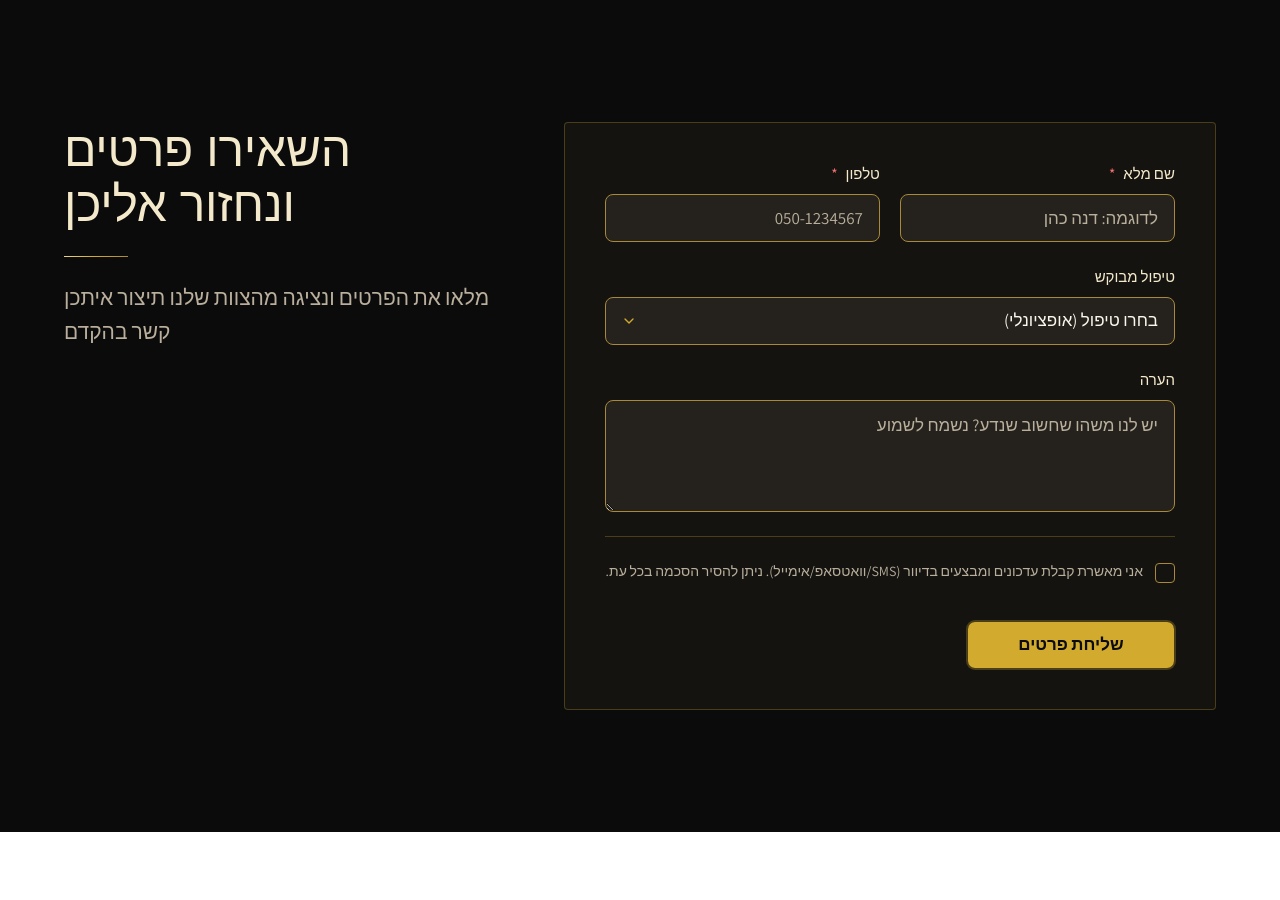
Test case: ContactFormSection — validation a11y (2.15) › required fields: empty submit shows both required errors, linked via aria-describedby
Step 1. Click the button "שליחת פרטים" → (1071, 645), box left=967, top=621, right=1175, bottom=669
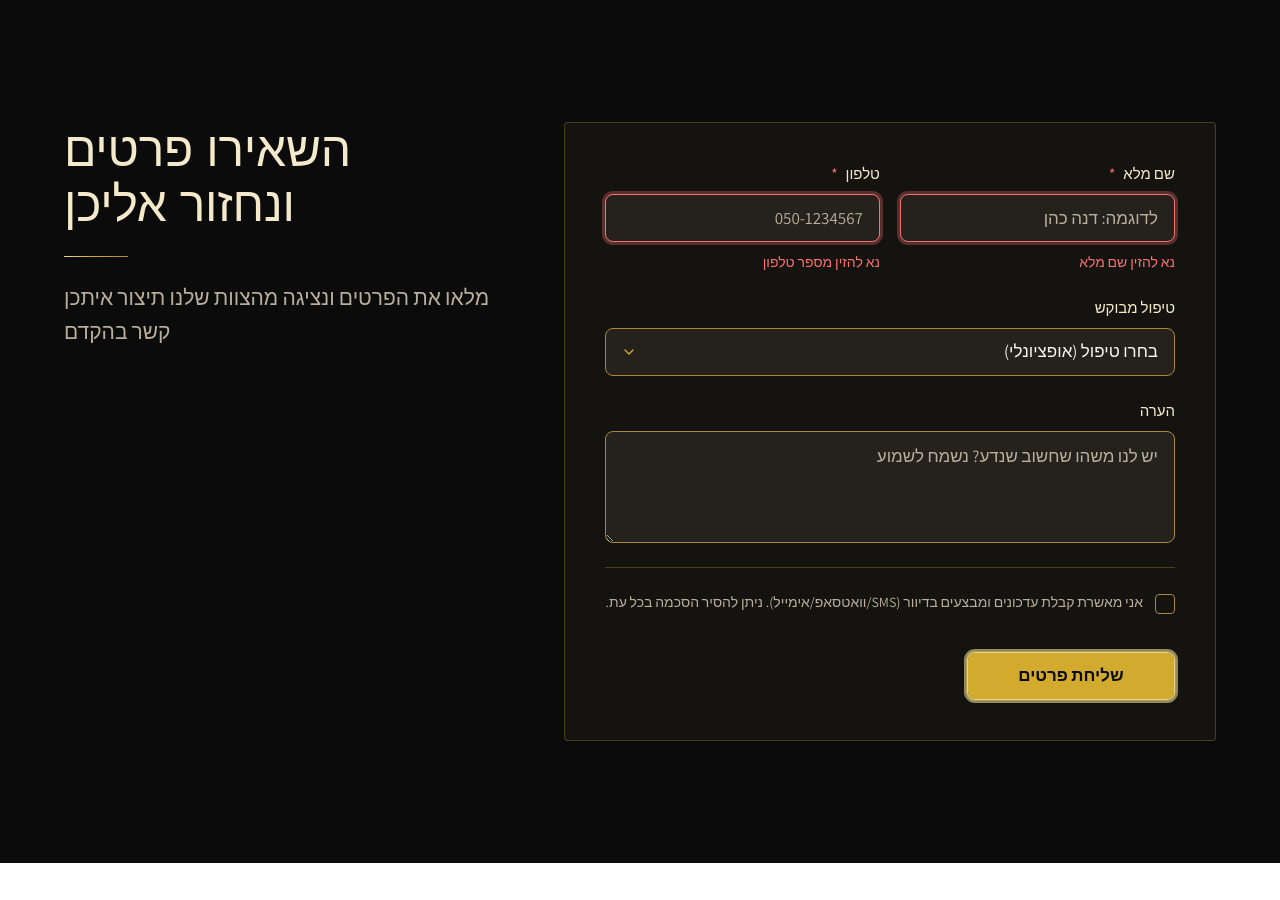
Expected: the text "נא להזין שם מלא" is shown, left=1079, top=253, right=1175, bottom=271
Expected: the text "נא להזין מספר טלפון" is shown, left=763, top=253, right=880, bottom=271
